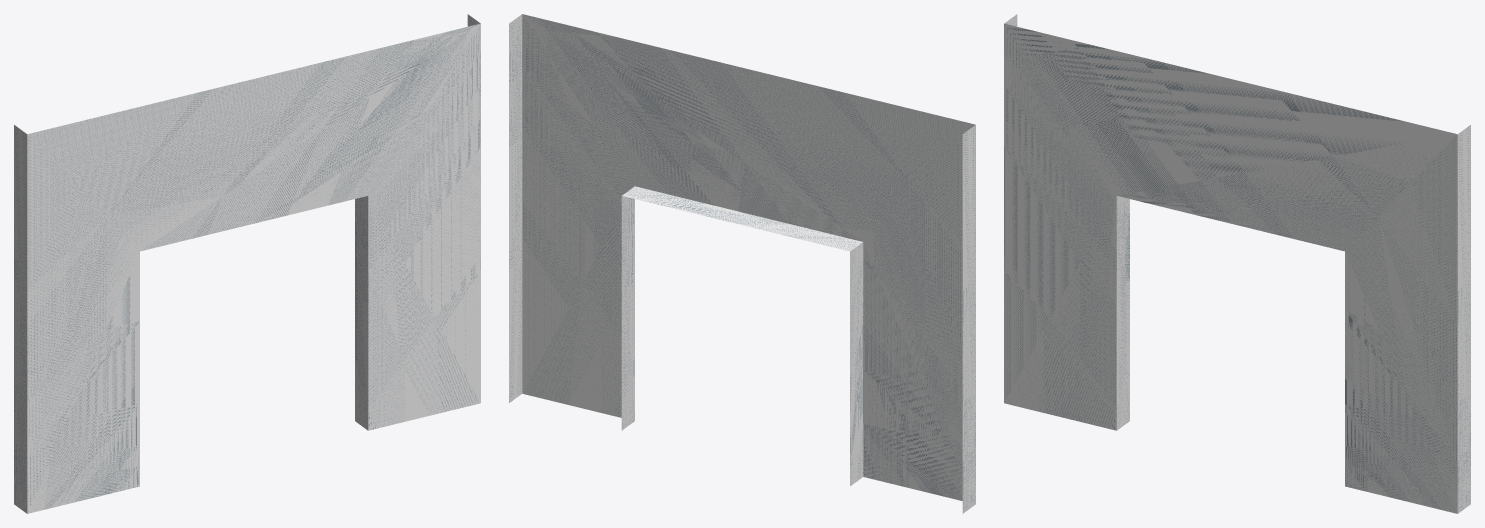
Rendered from BlockWall_os_[500x400x025]_252x247_double_doorway.dae.
3 views of the same model, side by side, from view 1: azimuth 30°, elevation 25°; view 2: azimuth 150°, elevation 25°; view 3: azimuth 330°, elevation 25° (orthographic).
Visible parts, largest first — view 1: group_0; view 2: group_0; view 3: group_0.
Boxes of the visible parts, <box> form: group_0: <box>14,14,480,513</box>; group_0: <box>509,14,975,513</box>; group_0: <box>1004,14,1470,513</box>.
Size of the model in its own units: 197 by 9.84 by 157.
